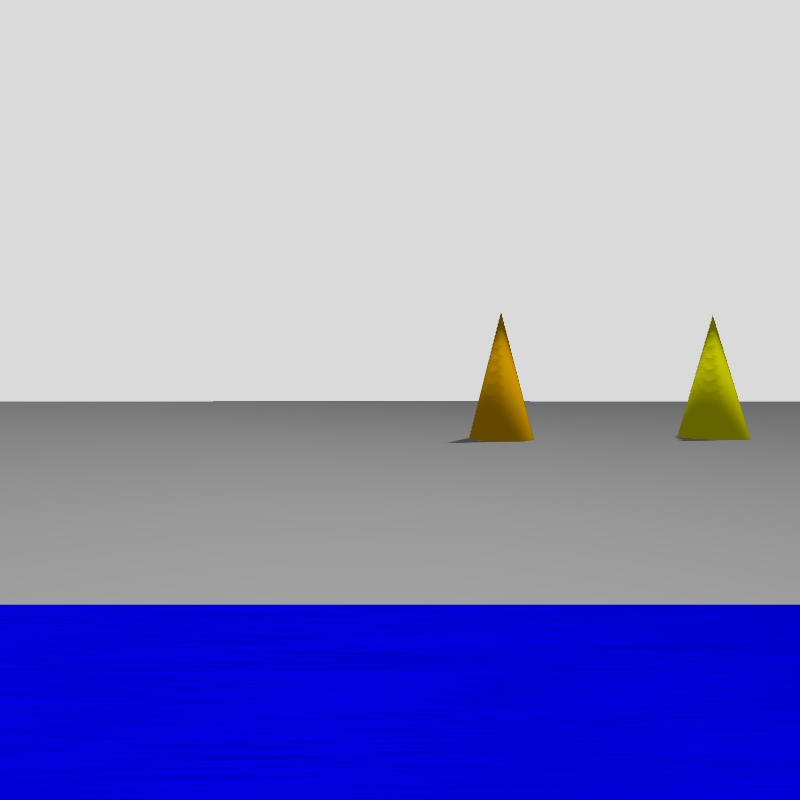Orange_cone: (470, 314, 533, 440)
Yellow_cone: (678, 317, 749, 438)
